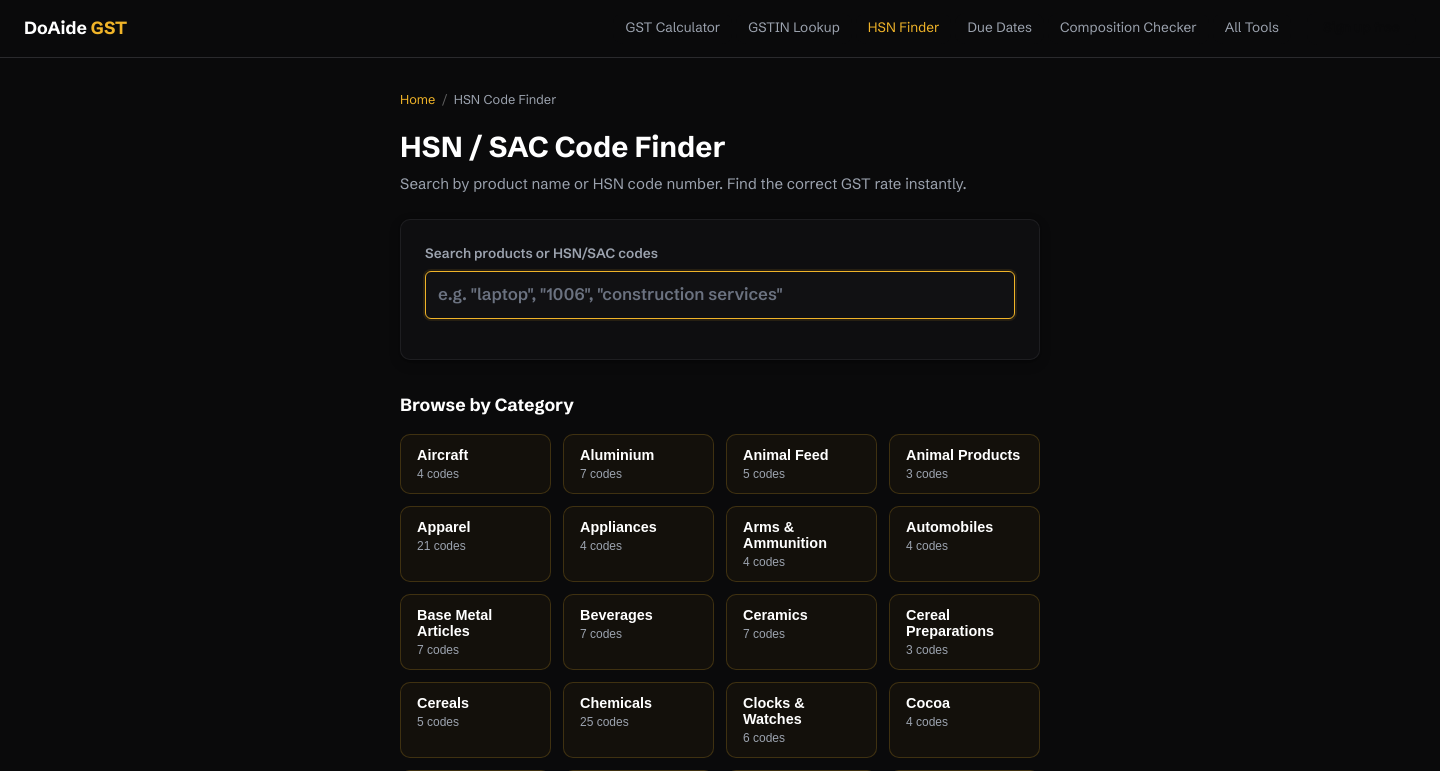
HsnFinderPage › shows no-matching message for unknown search
Step 1. Type "xyznonexistent" into the search field with placeholder "e.g. \"laptop\", \"1006\", \"construction services\"" → (720, 295), box [425,271,1015,319]
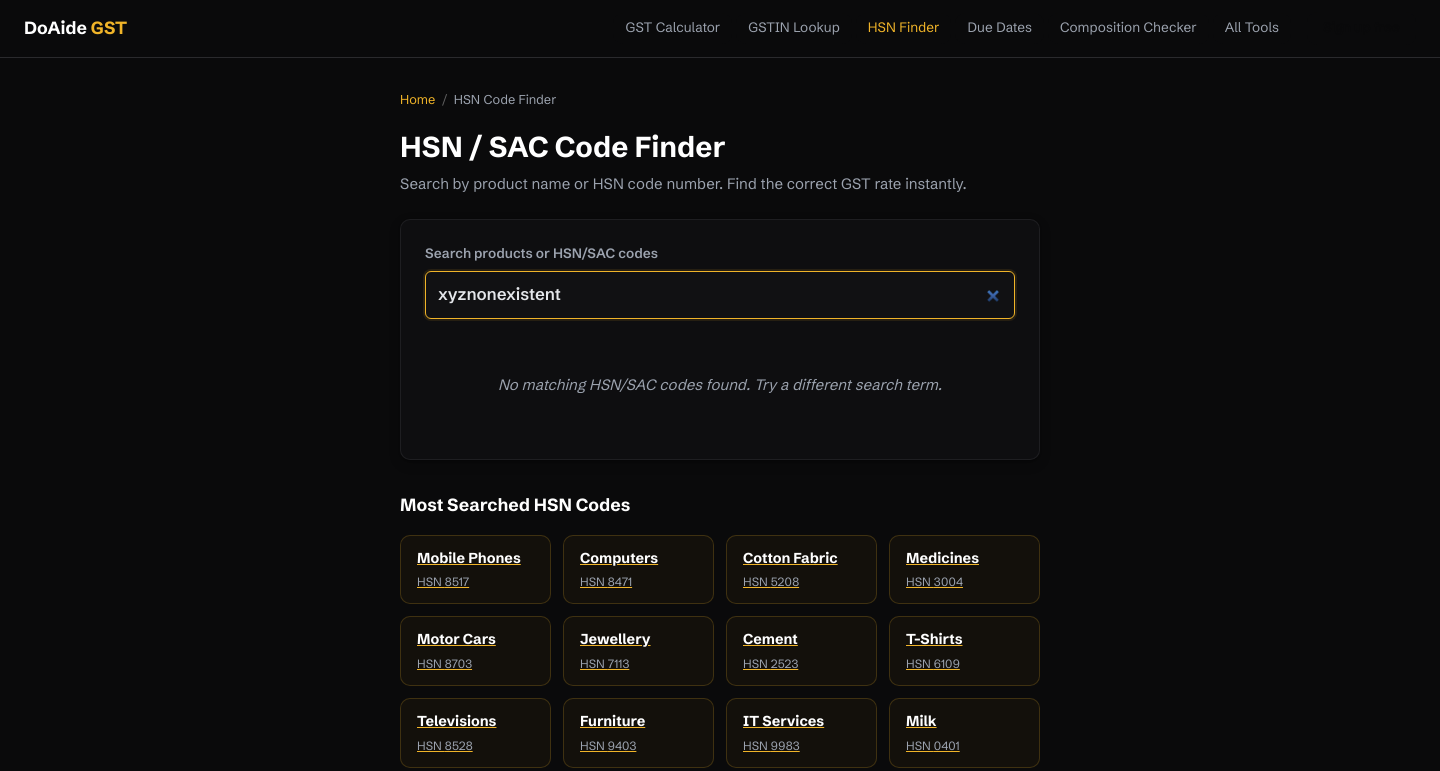
Expected: the text "No matching HSN/SAC codes" is shown, [498,375,942,394]
